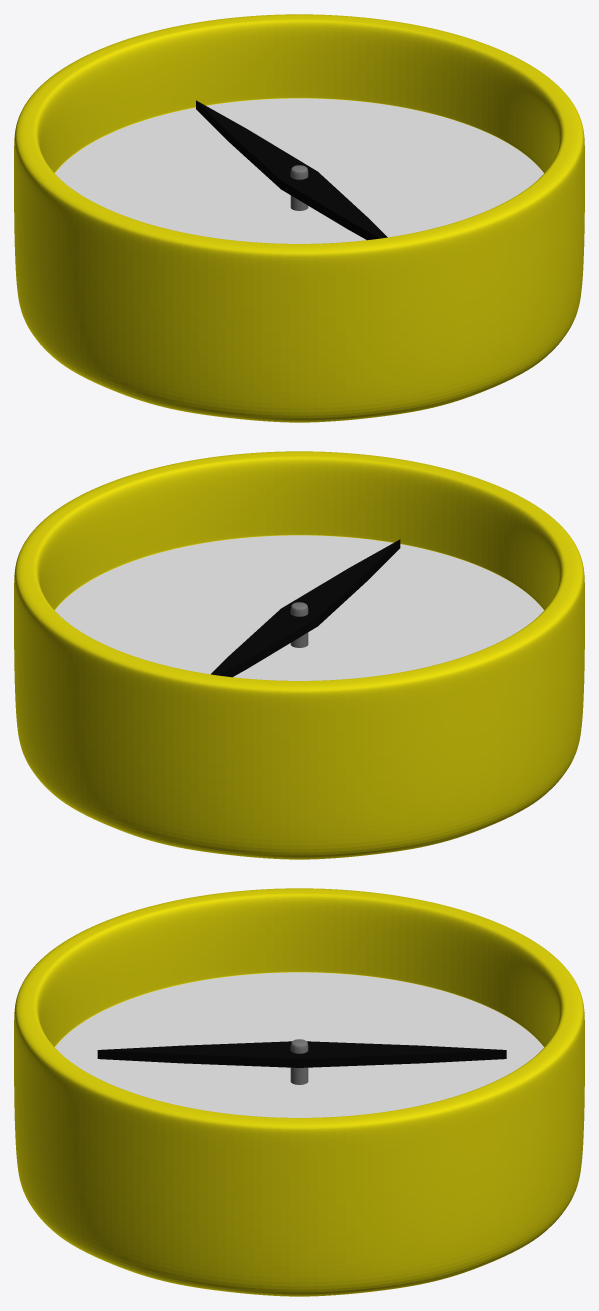
File: compass.fbx
3 views of the same model, one above another, from view 1: azimuth 30°, elevation 25°; view 2: azimuth 150°, elevation 25°; view 3: azimuth 270°, elevation 25° (orthographic).
Visible parts, largest first — view 1: Cylinder, Plane; view 2: Cylinder, Plane; view 3: Cylinder, Plane, Cylinder.001.
Part boxes in pixels (x1,y1,x2,y2): Cylinder: [14, 14, 584, 422]; Plane: [196, 100, 387, 240]; Cylinder: [14, 451, 584, 859]; Plane: [211, 539, 400, 677]; Cylinder: [14, 888, 584, 1296]; Plane: [97, 1041, 506, 1067]; Cylinder.001: [290, 1039, 308, 1084].
Bounding box in the file's own units: 28.66 × 10 × 28.66.
